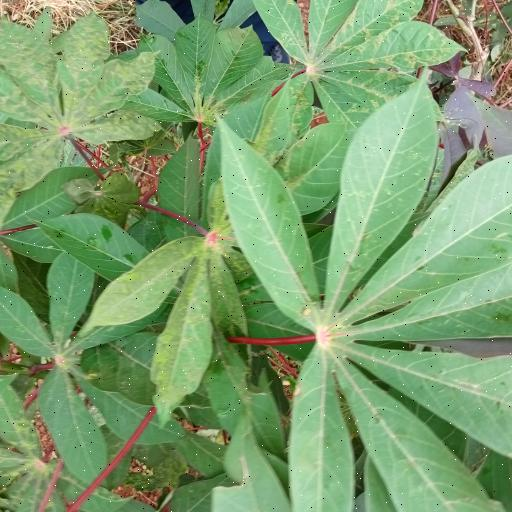Cassava_Healthy: (212, 105, 512, 512), (2, 254, 194, 479), (251, 0, 455, 140), (0, 15, 161, 192)
